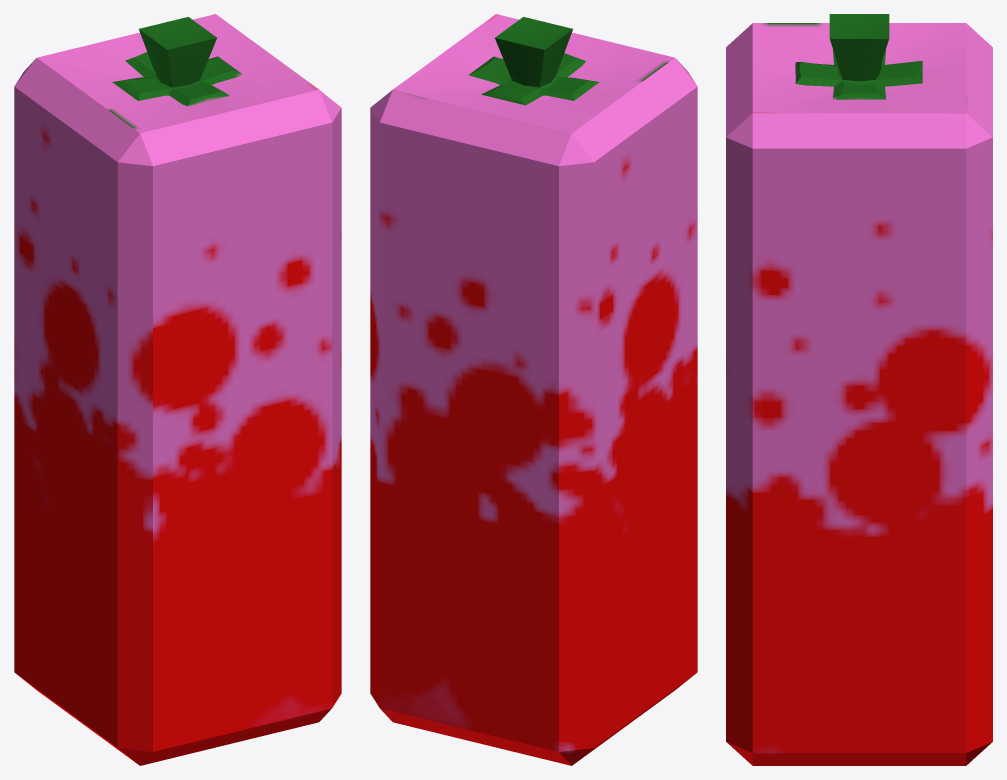
Rendered from Penene.fbx.
3 views of the same model, side by side, from view 1: azimuth 30°, elevation 25°; view 2: azimuth 150°, elevation 25°; view 3: azimuth 270°, elevation 25° (orthographic). The views are drawn at different scales.
Parts seen in each view (by area): view 1: pCube1; view 2: pCube1; view 3: pCube1.
Boxes of the visible parts, x1=… form: pCube1: x1=14, y1=14, x2=341, y2=765; pCube1: x1=370, y1=14, x2=697, y2=765; pCube1: x1=726, y1=14, x2=992, y2=765.
Size of the model in its own units: 0.1291 by 0.3707 by 0.1291.
1 material, 1 textured.
